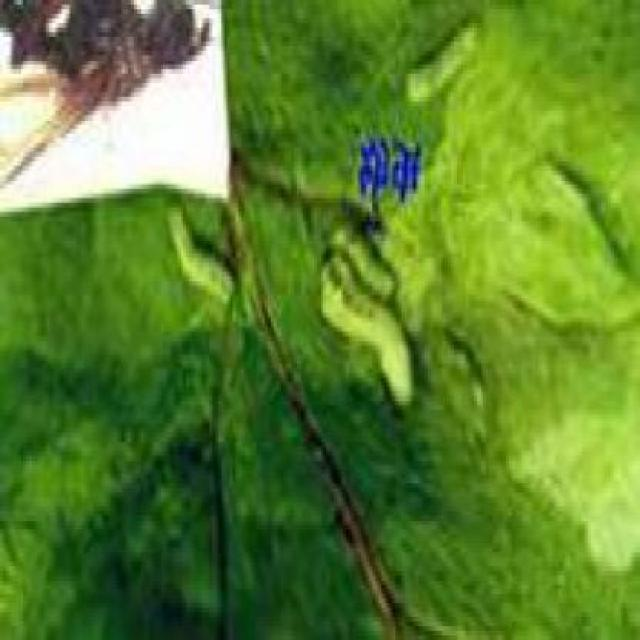whorl-maggot: (318, 211, 418, 409), (158, 192, 238, 312)
